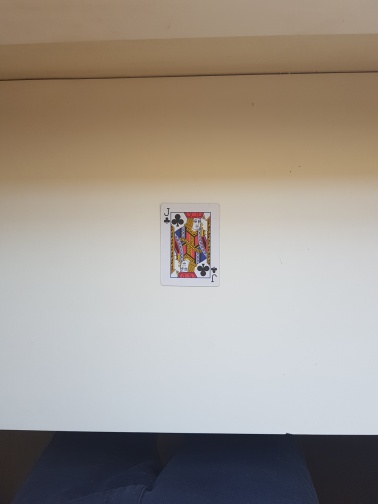jack: (159, 202, 222, 288)
